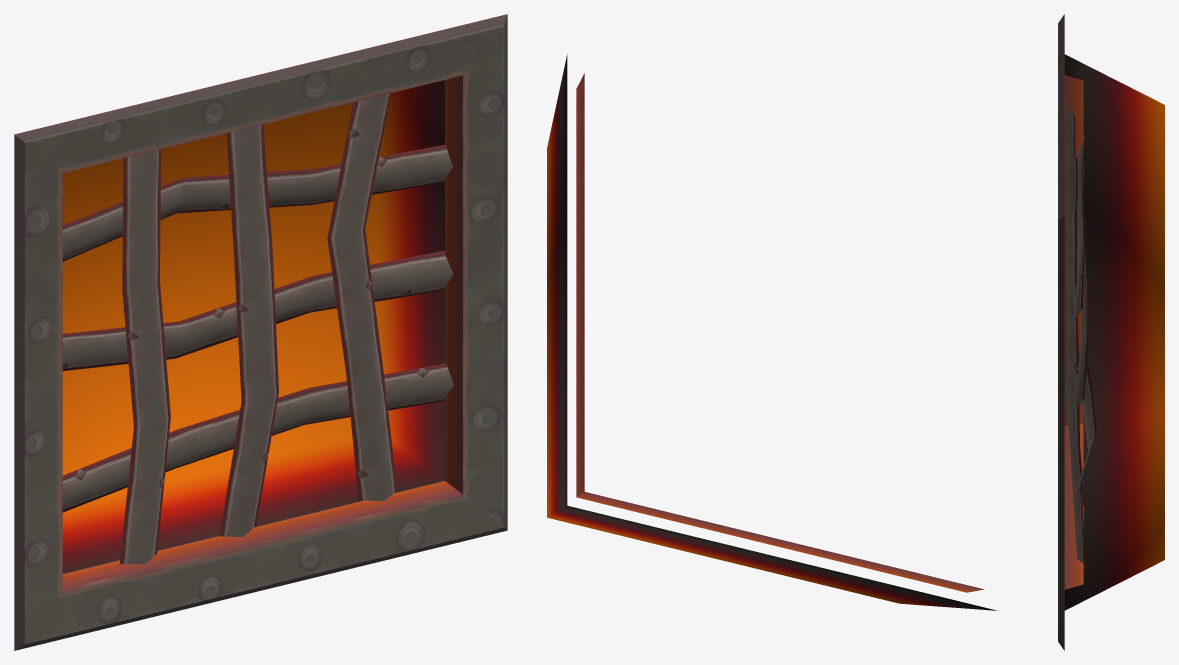
The model's file is tile_3x3.glb.
The picture shows the model from 3 angles, left to right: view 1: azimuth 30°, elevation 25°; view 2: azimuth 150°, elevation 25°; view 3: azimuth 270°, elevation 25°; orthographic projection. The views are drawn at different scales.
Visible parts, largest first — view 1: flame_grates.tile_3x3-MeshNodes["flame_pit_3x3"], flame_grates.tile_3x3-MeshNodes["flame_pit_3x3_pit"], flame_grates.tile_3x3-MeshNodes["flame_pit_3x3_bars"]; view 2: flame_grates.tile_3x3-MeshNodes["flame_pit_3x3_pit"], flame_grates.tile_3x3-MeshNodes["flame_pit_3x3"]; view 3: flame_grates.tile_3x3-MeshNodes["flame_pit_3x3_pit"], flame_grates.tile_3x3-MeshNodes["flame_pit_3x3"], flame_grates.tile_3x3-MeshNodes["flame_pit_3x3_bars"].
Boxes of the visible parts, x1,y1,x2,y2 form: flame_grates.tile_3x3-MeshNodes["flame_pit_3x3"]: (14, 14, 507, 650); flame_grates.tile_3x3-MeshNodes["flame_pit_3x3_pit"]: (62, 80, 444, 573); flame_grates.tile_3x3-MeshNodes["flame_pit_3x3_bars"]: (62, 93, 453, 564); flame_grates.tile_3x3-MeshNodes["flame_pit_3x3_pit"]: (547, 54, 997, 610); flame_grates.tile_3x3-MeshNodes["flame_pit_3x3"]: (576, 73, 984, 592); flame_grates.tile_3x3-MeshNodes["flame_pit_3x3_pit"]: (1064, 54, 1164, 610); flame_grates.tile_3x3-MeshNodes["flame_pit_3x3"]: (1058, 14, 1083, 650); flame_grates.tile_3x3-MeshNodes["flame_pit_3x3_bars"]: (1066, 109, 1096, 571).
Bounding box in the file's own units: 3.01 × 3.01 × 0.6696.
Materials: 3 (3 with a texture image).
